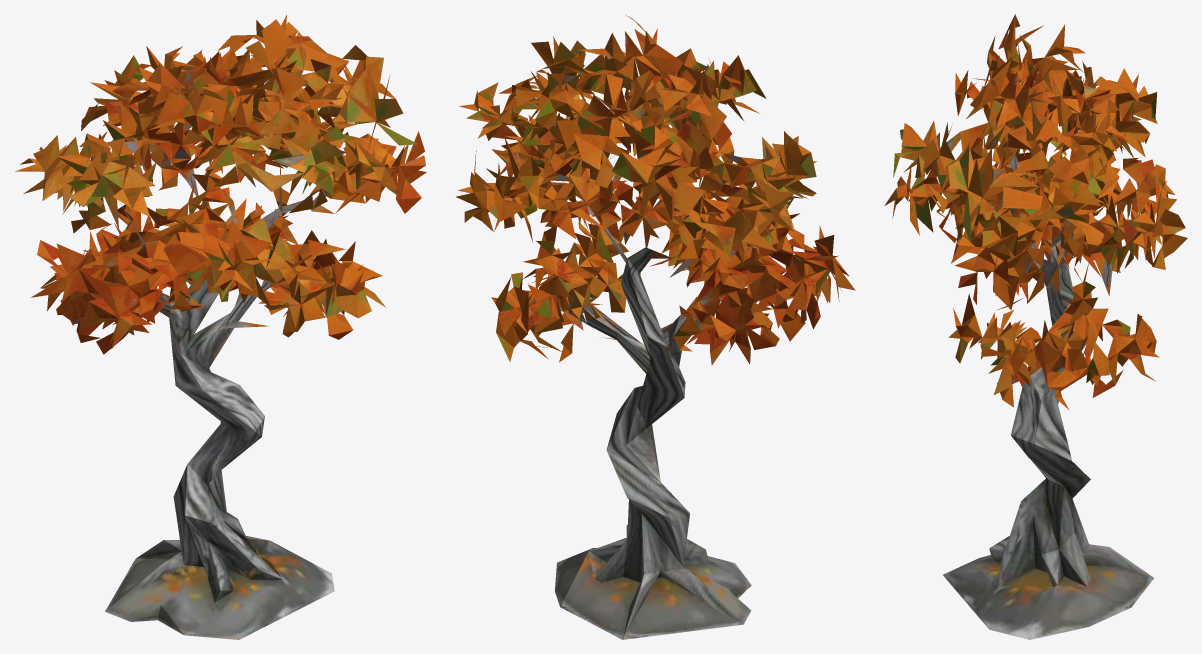
File: camp_arbre1.glb
3 views of the same model, side by side, from view 1: azimuth 30°, elevation 25°; view 2: azimuth 150°, elevation 25°; view 3: azimuth 270°, elevation 25° (orthographic). The views are drawn at different scales.
Bounding box in the file's own units: 1.32 × 1.87 × 0.9278.
1 material, 1 textured.
